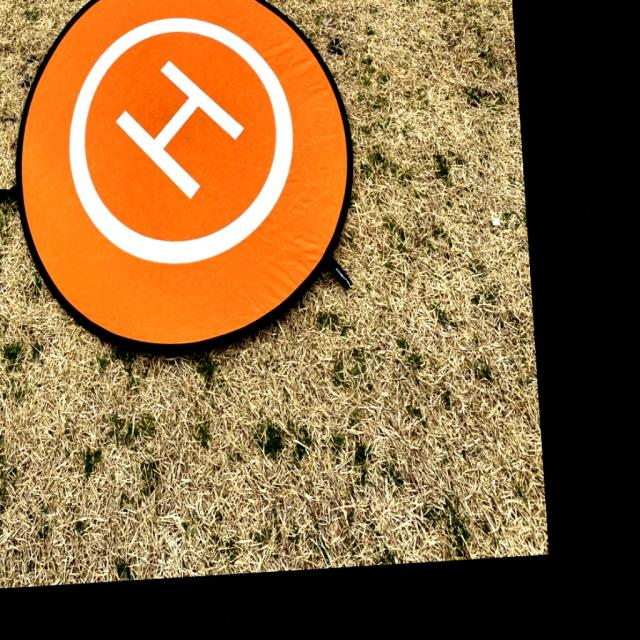helipad: (63, 9, 299, 269)
